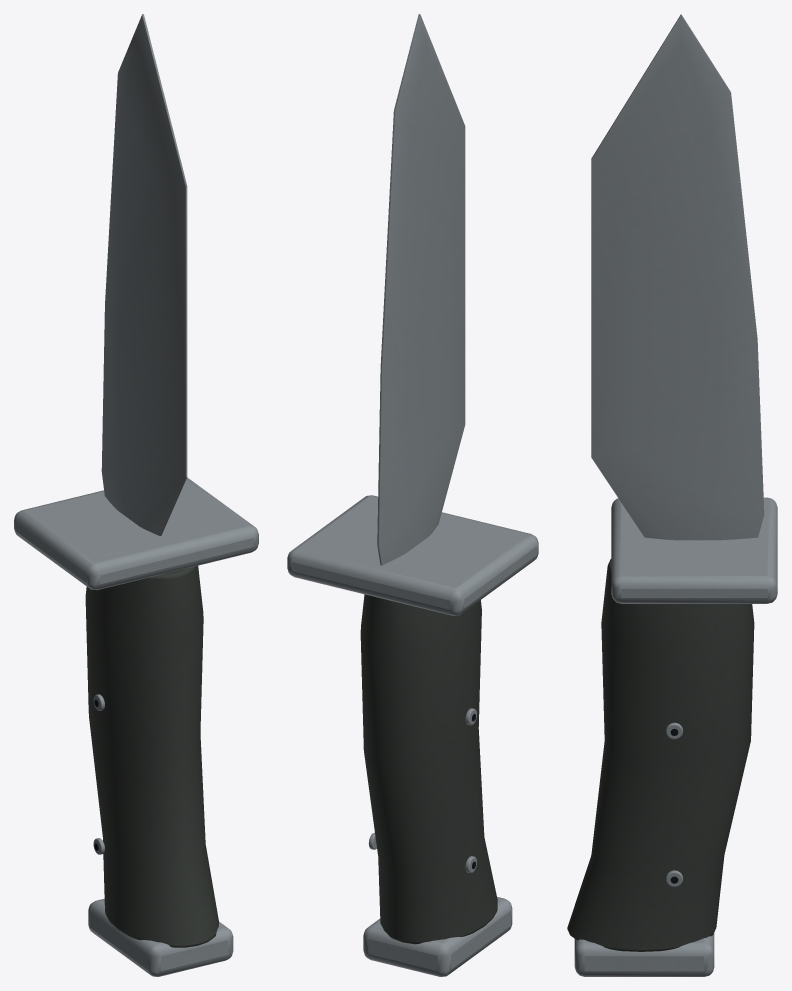
File: knife.glb
3 views of the same model, side by side, from view 1: azimuth 30°, elevation 25°; view 2: azimuth 150°, elevation 25°; view 3: azimuth 270°, elevation 25° (orthographic). The views are drawn at different scales.
Visible parts, largest first — view 1: Knife_Grip, Knife_Blade, Knife_Static_Machined steel; view 2: Knife_Grip, Knife_Blade, Knife_Static_Machined steel; view 3: Knife_Blade, Knife_Grip, Knife_Static_Machined steel.
Boxes of the visible parts, box(x1,y1,x2,y2) form: Knife_Grip: box(85, 565, 218, 947); Knife_Blade: box(101, 14, 187, 535); Knife_Static_Machined steel: box(14, 477, 258, 976); Knife_Grip: box(360, 594, 497, 944); Knife_Blade: box(377, 14, 465, 565); Knife_Static_Machined steel: box(287, 495, 538, 976); Knife_Blade: box(591, 14, 764, 540); Knife_Grip: box(567, 559, 754, 951); Knife_Static_Machined steel: box(574, 497, 777, 976).
Size of the model in its own units: 0.061 by 0.3134 by 0.0632.
Materials: 3 (3 with a texture image).
